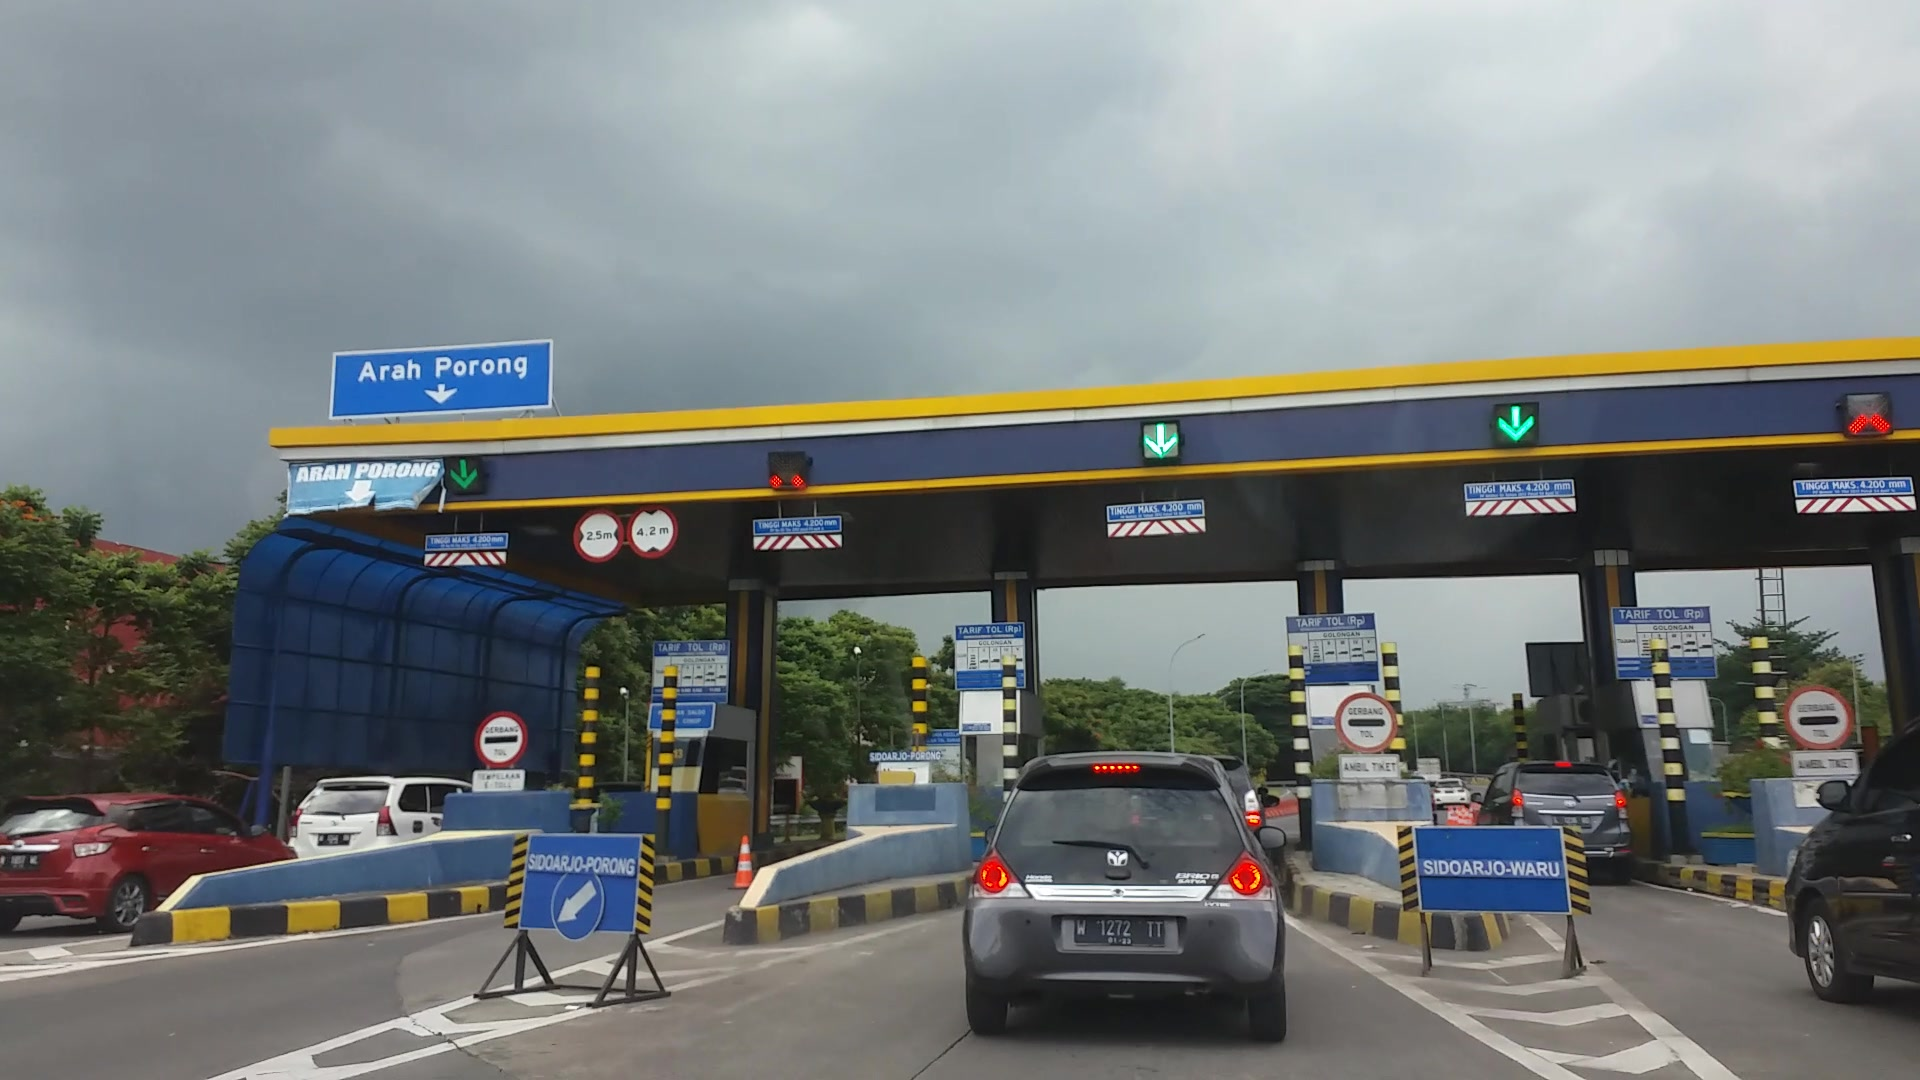plate_positive: (1073, 914, 1164, 947)
